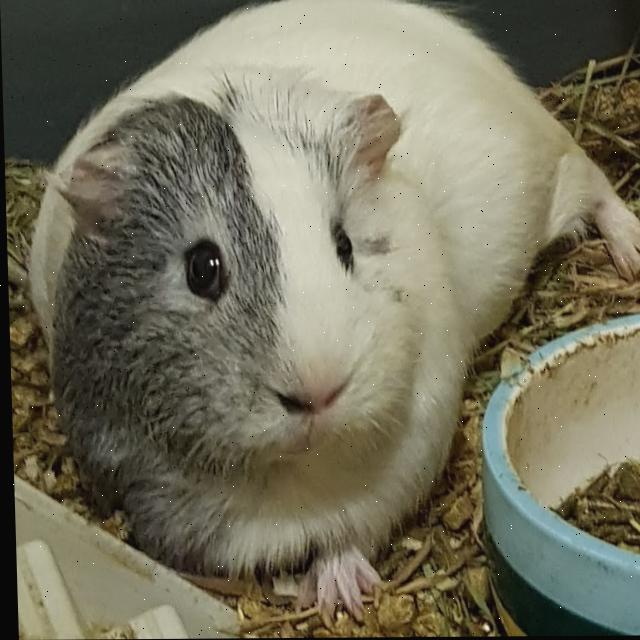guinea pig: (20, 0, 640, 632)
